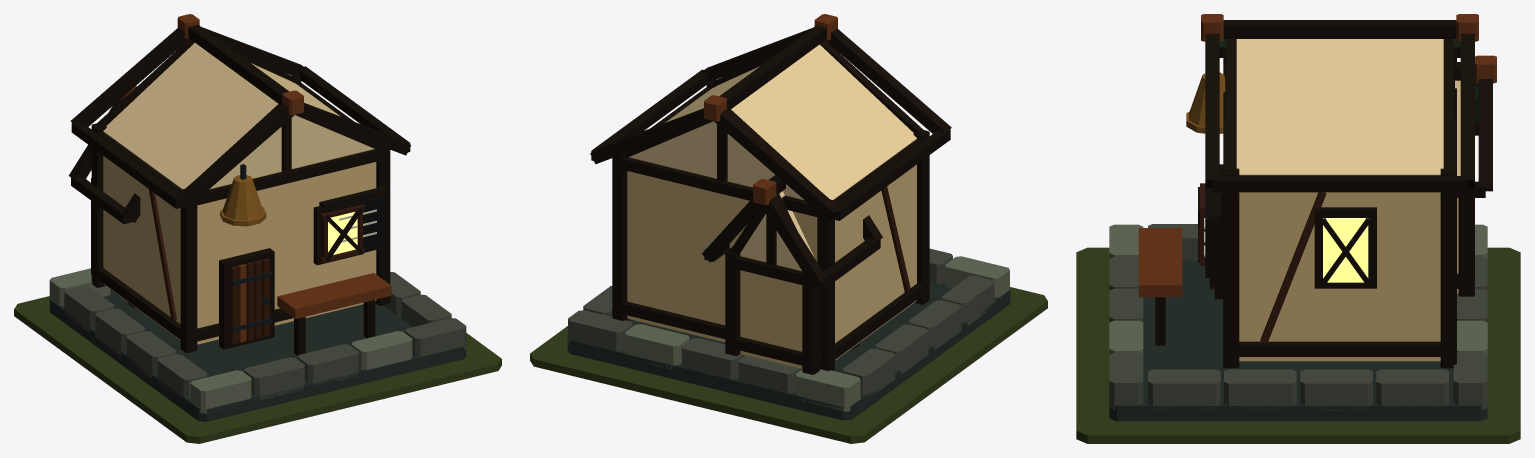
Rendered from schoolroom_t4.glb.
The picture shows the model from 3 angles, left to right: view 1: azimuth 30°, elevation 25°; view 2: azimuth 150°, elevation 25°; view 3: azimuth 270°, elevation 25°; orthographic projection. The views are drawn at different scales.
Visible parts, largest first — view 1: MMR | schoolroom | T04 Architecture.001, MMR | schoolroom | Tier 04 Ground.001; view 2: MMR | schoolroom | T04 Architecture.001, MMR | schoolroom | Tier 04 Ground.001; view 3: MMR | schoolroom | T04 Architecture.001, MMR | schoolroom | Tier 04 Ground.001.
Boxes of the visible parts, box(x1,y1,x2,y2) form: MMR | schoolroom | T04 Architecture.001: box(49, 14, 466, 421); MMR | schoolroom | Tier 04 Ground.001: box(14, 296, 501, 443); MMR | schoolroom | T04 Architecture.001: box(567, 14, 1010, 420); MMR | schoolroom | Tier 04 Ground.001: box(530, 287, 1047, 443); MMR | schoolroom | T04 Architecture.001: box(1109, 14, 1496, 421); MMR | schoolroom | Tier 04 Ground.001: box(1076, 247, 1520, 443).
Size of the model in its own units: 2.35 by 1.93 by 2.35.
Materials: 2 (1 with a texture image).
